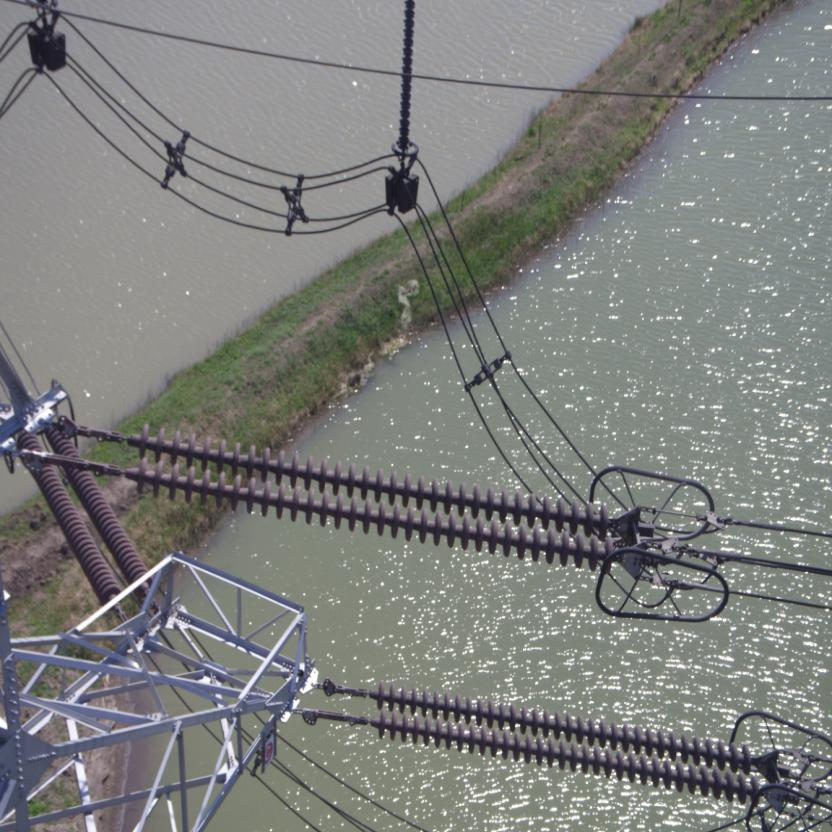insulator: (100, 421, 628, 572), (352, 679, 768, 806)
